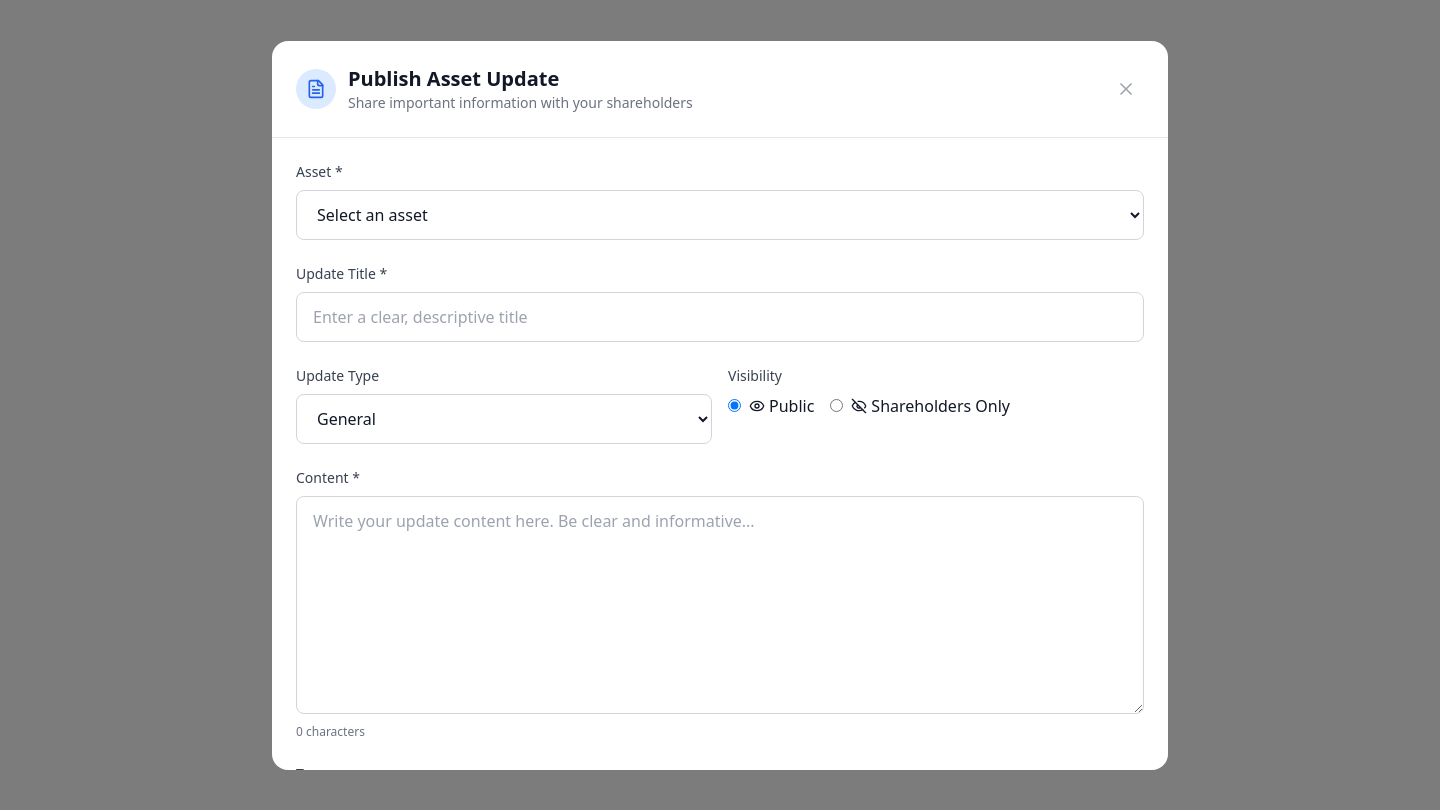
it: PublishUpdateModal › should handle visibility selection
Expected: the radio button labelled "Public" is checked, [728,399,741,412]
Click the radio button labelled "Shareholders Only".
click(837, 406)  # box [830,399,843,412]
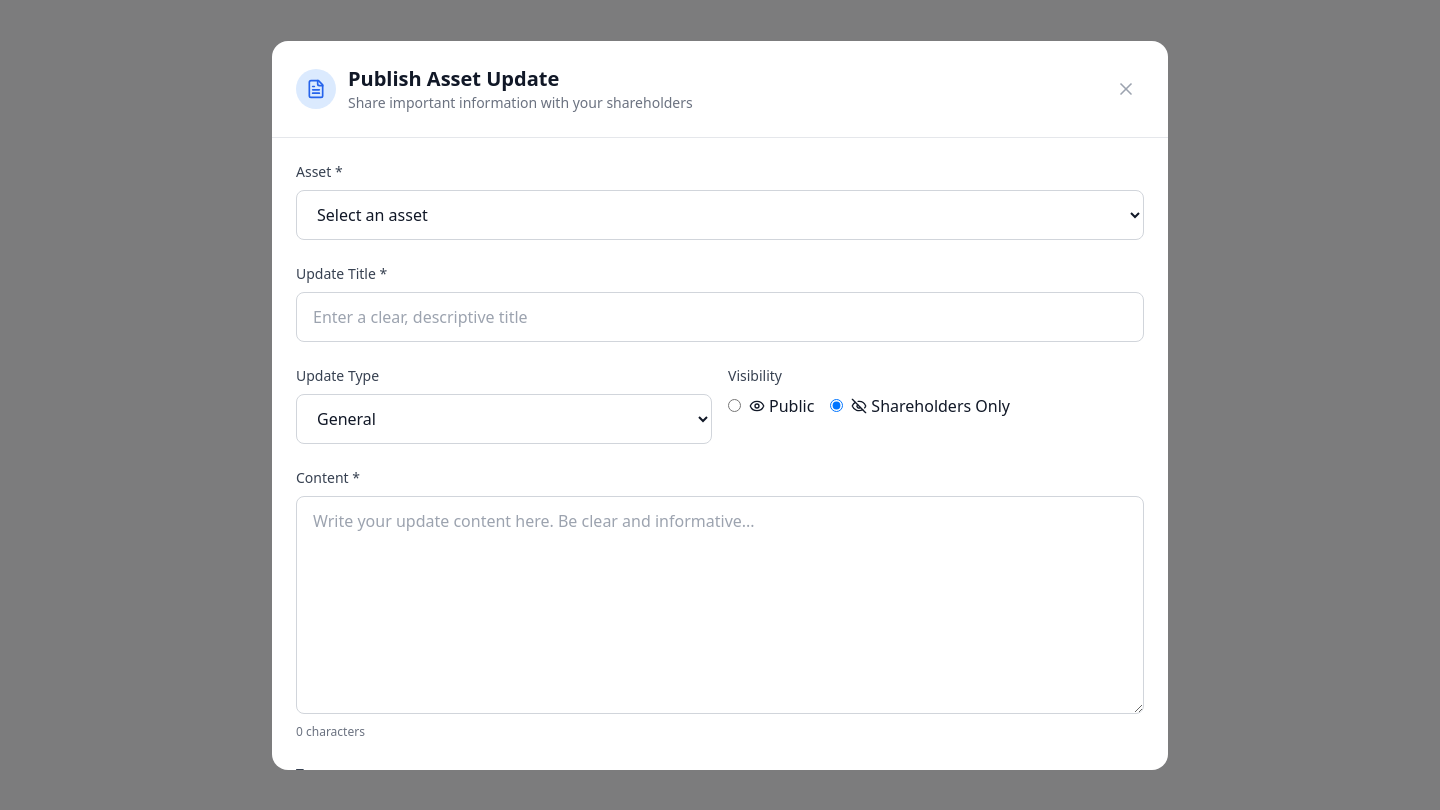
Result: the radio button labelled "Shareholders Only" is checked at [830,399,843,412]
Result: the radio button labelled "Public" is not checked at [728,399,741,412]
